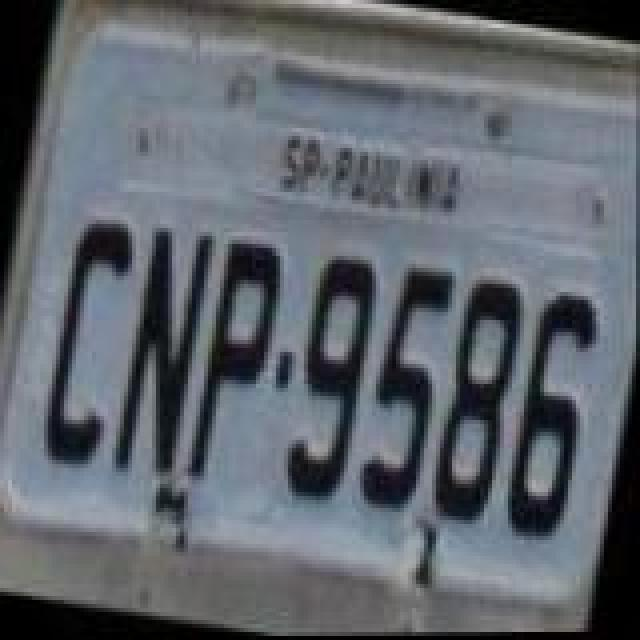5: (352, 262, 456, 522)
6: (496, 286, 604, 550)
8: (424, 270, 528, 530)
9: (280, 246, 384, 506)
C: (34, 210, 138, 474)
N: (108, 220, 212, 484)
P: (184, 234, 288, 494)
